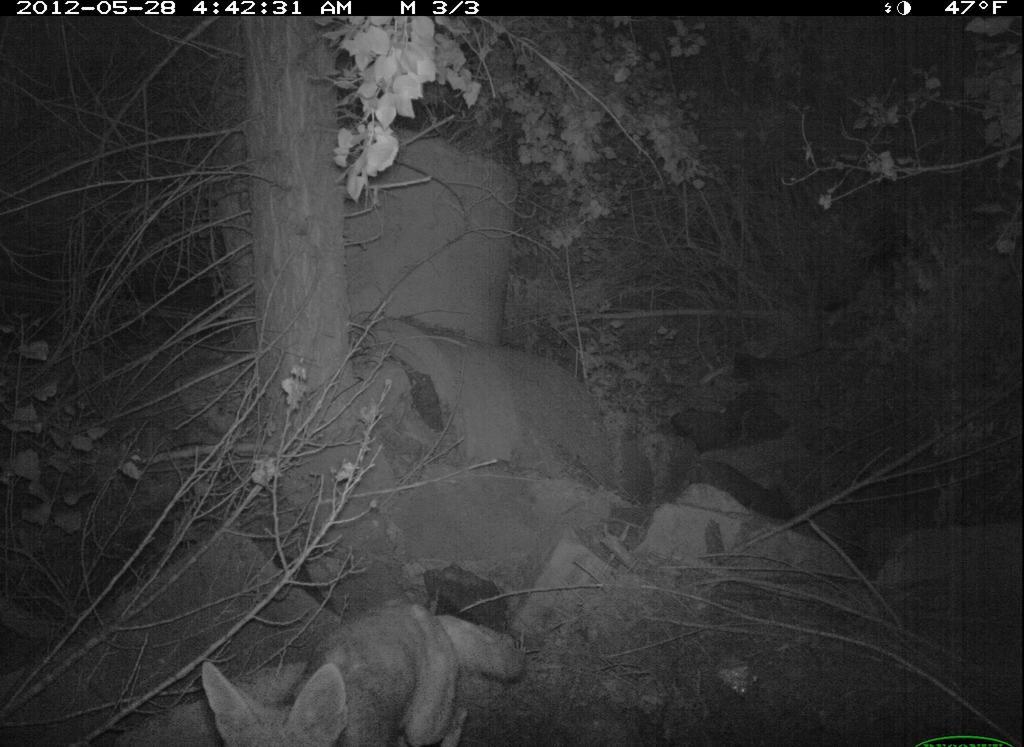coyote: (199, 594, 530, 747)
